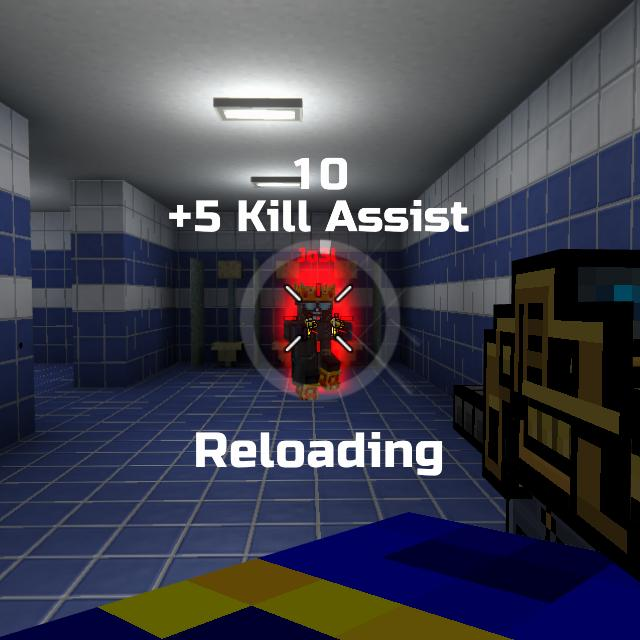Enemy: (284, 289, 353, 401)
